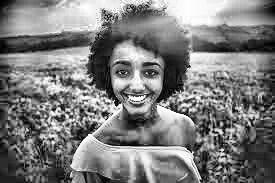happy: (102, 16, 181, 124)
